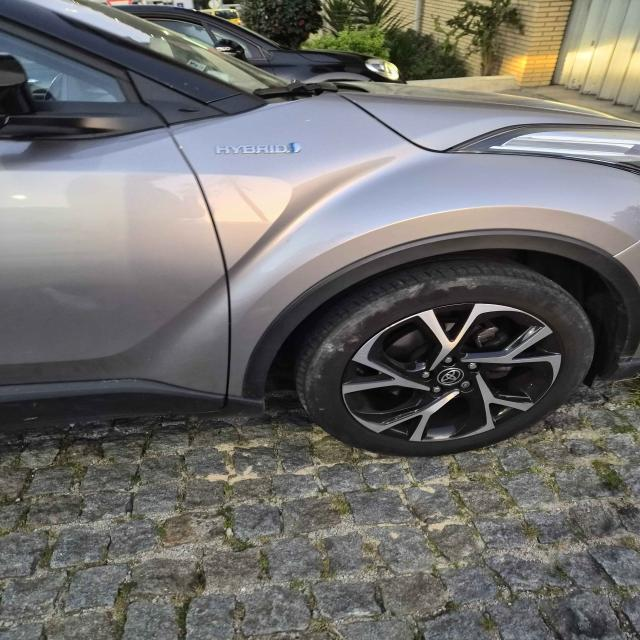jante: (341, 302, 564, 441)
parafuso: (465, 362, 481, 374), (428, 385, 444, 395), (442, 356, 456, 367), (459, 380, 473, 391), (417, 371, 432, 380)
roda: (294, 260, 597, 460)
